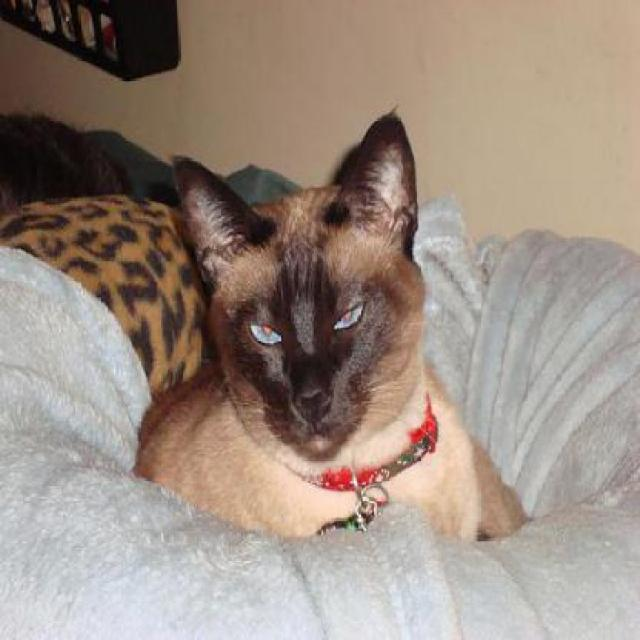cat: (133, 107, 529, 539)
